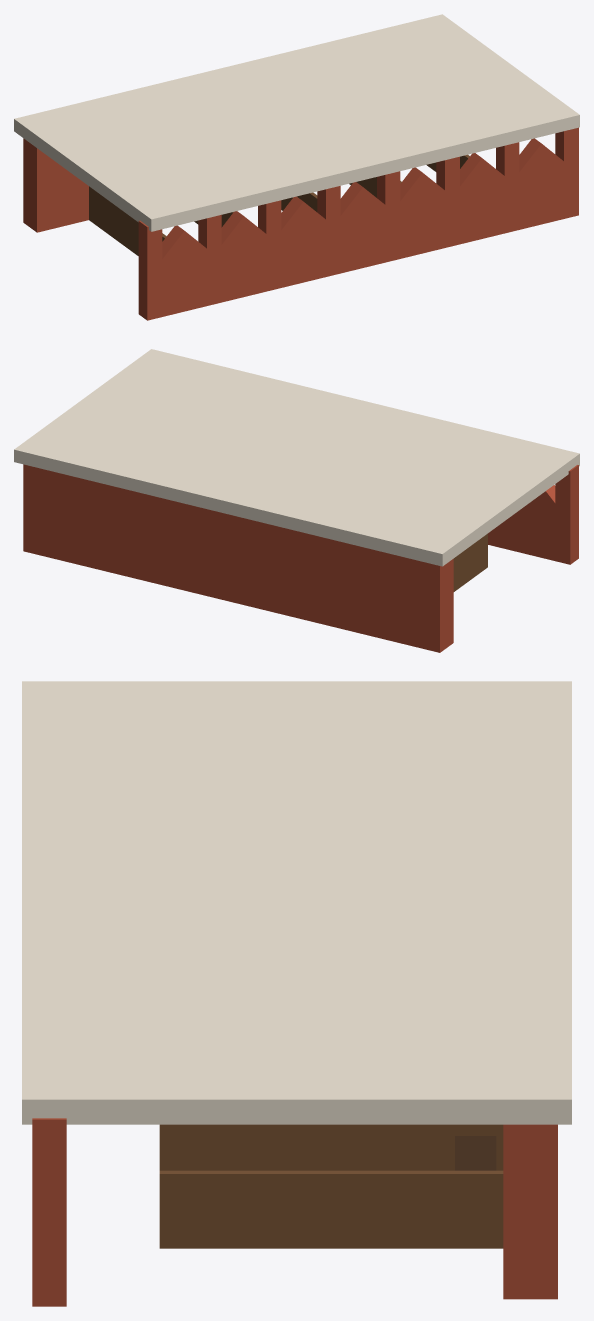
Rendered from stable.glb.
3 views of the same model, one above another, from view 1: azimuth 30°, elevation 25°; view 2: azimuth 150°, elevation 25°; view 3: azimuth 270°, elevation 25° (orthographic). The views are drawn at different scales.
Parts seen in each view (by area): view 1: Stable; view 2: Stable; view 3: Stable.
Part boxes in pixels (bbox=[...]): Stable: bbox=[14, 14, 579, 320]; Stable: bbox=[14, 349, 579, 652]; Stable: bbox=[22, 681, 571, 1306].
Bounding box in the file's own units: 14.5 × 3.3 × 8.
